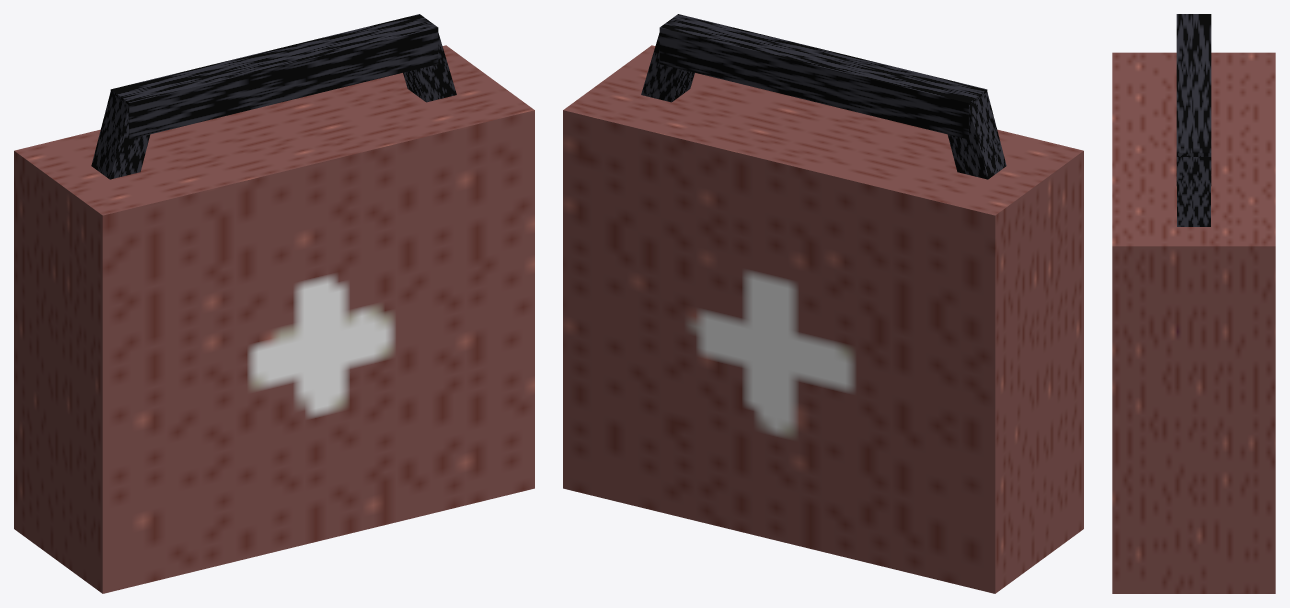
File: medkit.fbx
The picture shows the model from 3 angles, left to right: view 1: azimuth 30°, elevation 25°; view 2: azimuth 150°, elevation 25°; view 3: azimuth 270°, elevation 25°; orthographic projection. The views are drawn at different scales.
Parts seen in each view (by area): view 1: Cube.001, Cube, Cube.003, Cube.002; view 2: Cube.001, Cube, Cube.003, Cube.002; view 3: Cube.001, Cube, Cube.002.
Boxes of the visible parts, x1,y1,x2,y2 form: Cube.001: (14,45,534,593); Cube: (110,14,438,139); Cube.003: (91,92,150,179); Cube.002: (403,33,456,102); Cube.001: (563,45,1083,593); Cube: (659,14,987,139); Cube.003: (947,92,1006,179); Cube.002: (641,33,694,102); Cube.001: (1112,52,1275,593); Cube: (1176,14,1211,185); Cube.002: (1177,157,1210,226).
Bounding box in the file's own units: 104 × 104 × 37.05.
